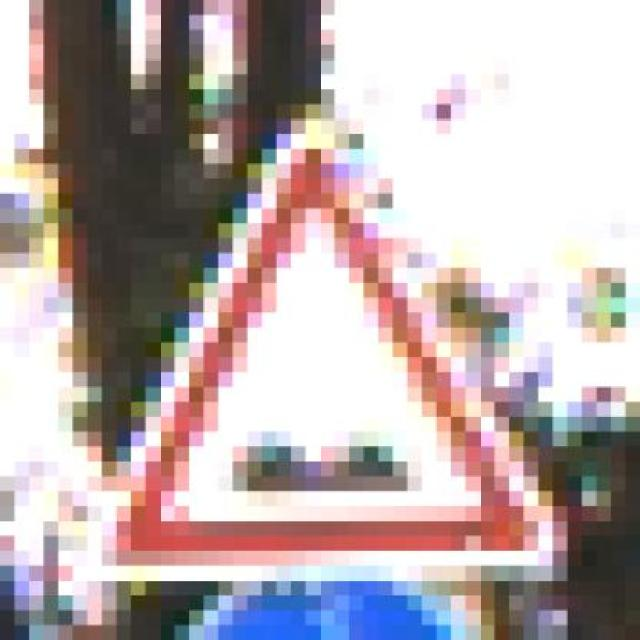Uneven Road: (87, 104, 567, 581)
